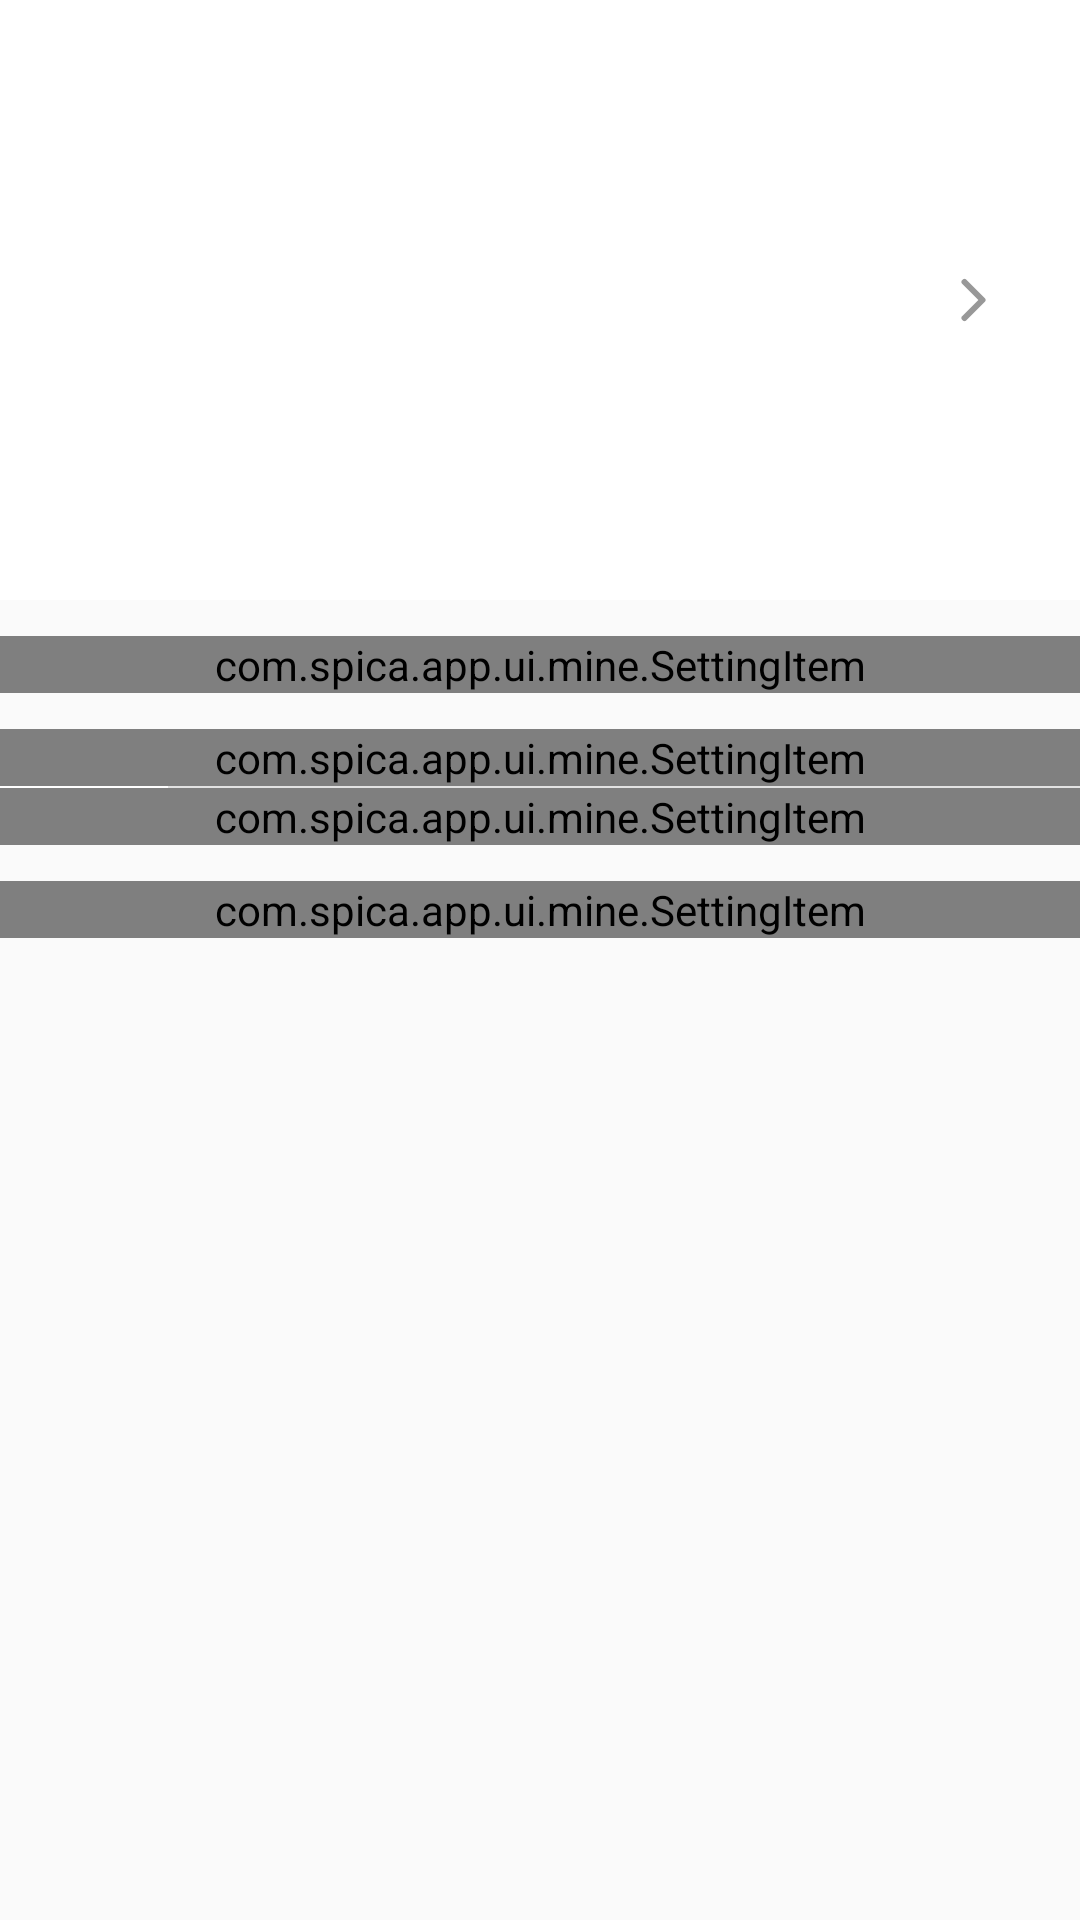

Named icons in this screenshot (1080x1920) and their bounding boxes, (x1, y1, x2, y2):
right: (961, 279, 986, 321)
